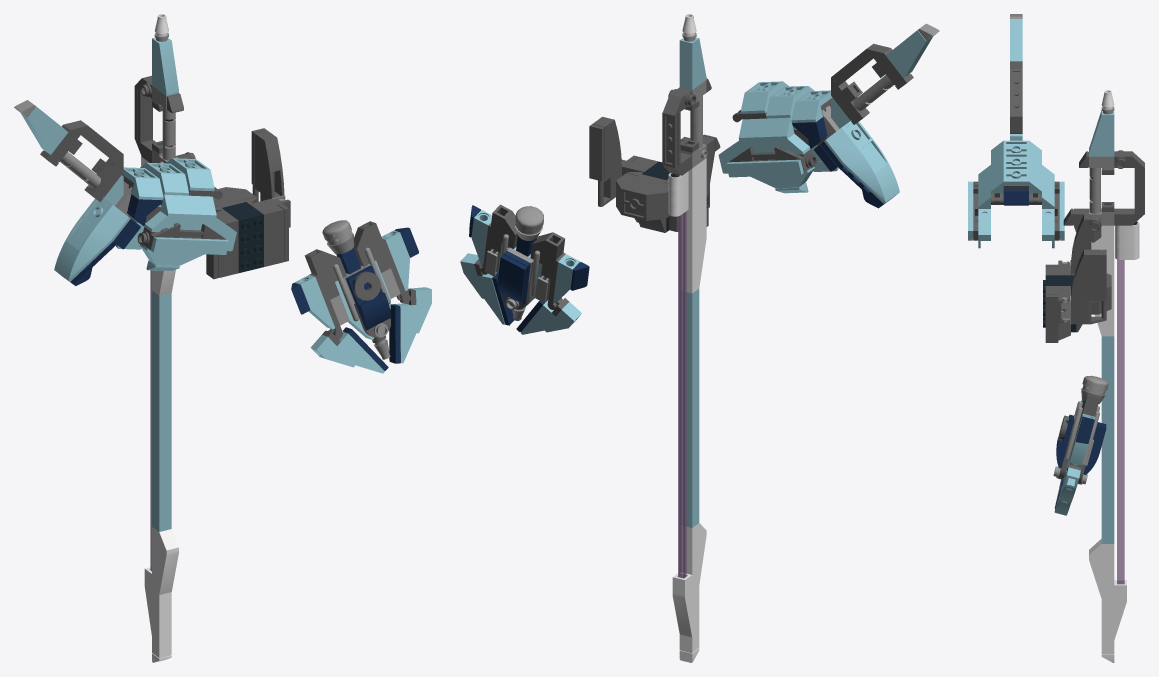
The model's file is gat-x105-strike-pack-sword.dae.
3 views of the same model, side by side, from view 1: azimuth 30°, elevation 25°; view 2: azimuth 150°, elevation 25°; view 3: azimuth 270°, elevation 25° (orthographic). The views are drawn at different scales.
Bounding box in the file's own units: 708 × 278 × 988.
